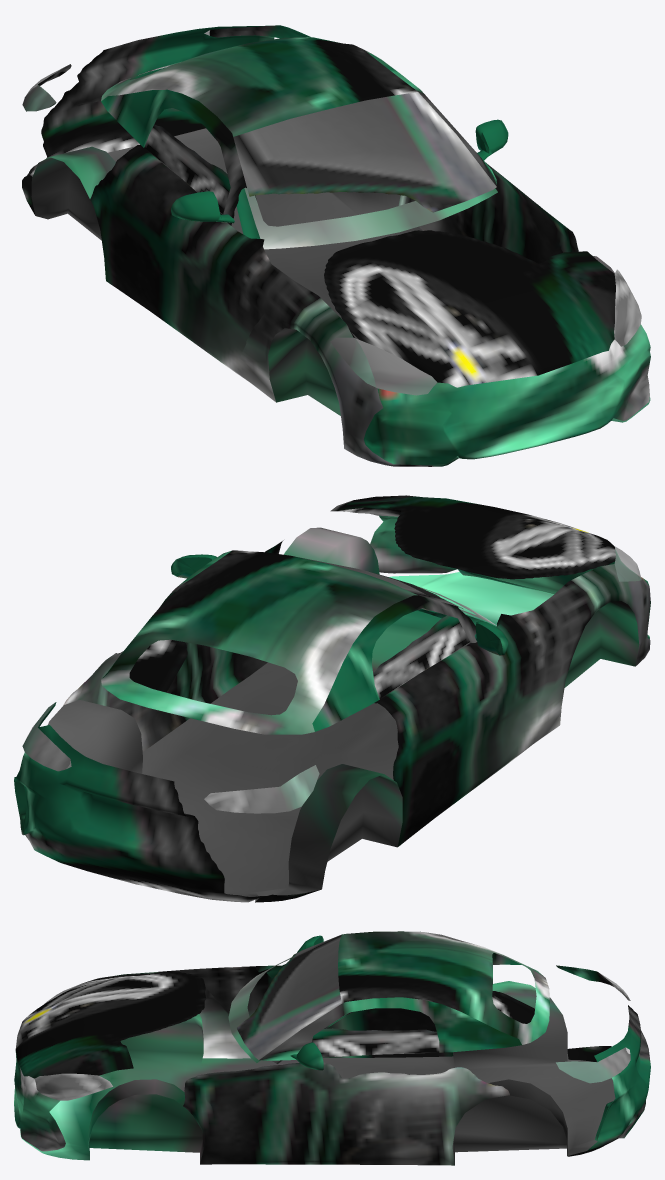
File: car 26.fbx
3 views of the same model, one above another, from view 1: azimuth 30°, elevation 25°; view 2: azimuth 150°, elevation 25°; view 3: azimuth 270°, elevation 25° (orthographic). The views are drawn at different scales.
Visible parts, largest first — view 1: car_26; view 2: car_26; view 3: car_26.
Boxes of the visible parts, box(x1,y1,x2,y2) form: car_26: box(22, 25, 650, 466); car_26: box(14, 495, 650, 902); car_26: box(14, 931, 650, 1165).
Bounding box in the file's own units: 246 × 140 × 529.
